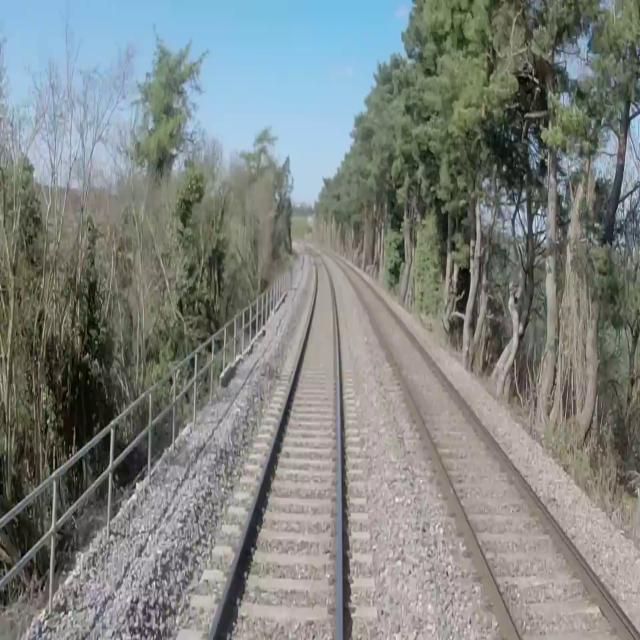rail-track: (327, 251, 636, 639), (212, 250, 338, 639)
